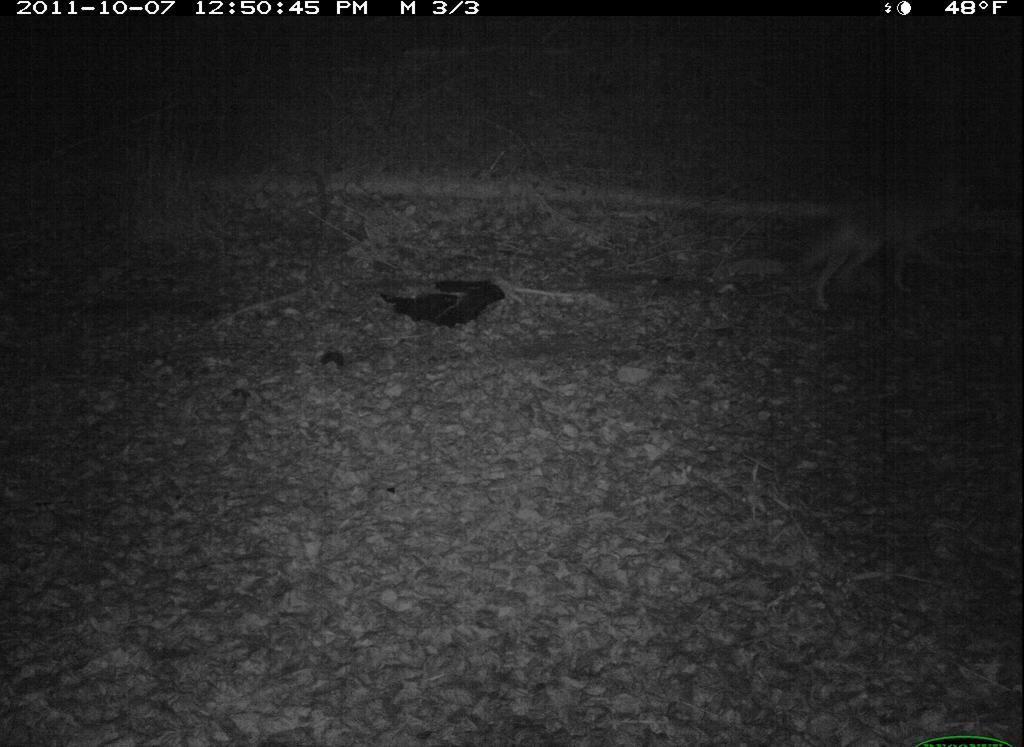coyote: (790, 156, 1003, 319)
